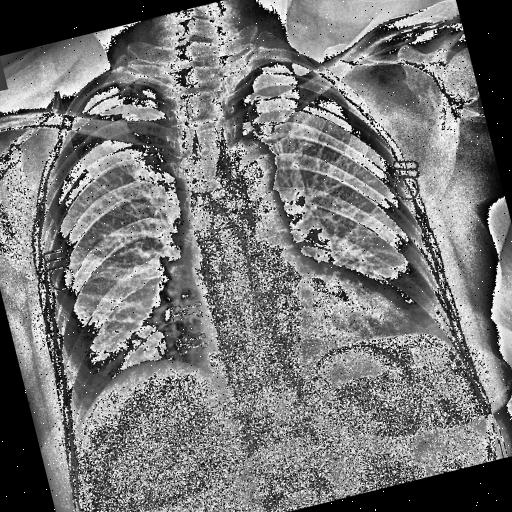0- Aortic enlargement: (206, 129, 286, 207), (208, 131, 282, 197)
3- Cardiomegaly: (189, 270, 422, 392), (194, 276, 416, 398), (191, 264, 416, 384)
